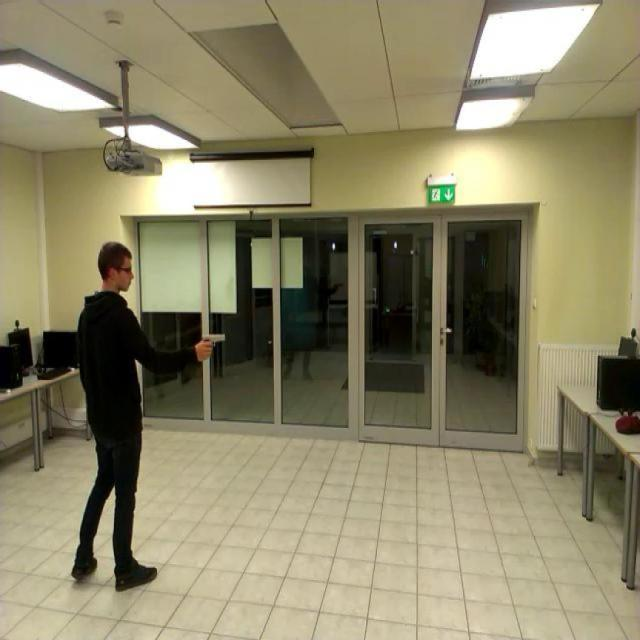pistol: (200, 332, 224, 355)
